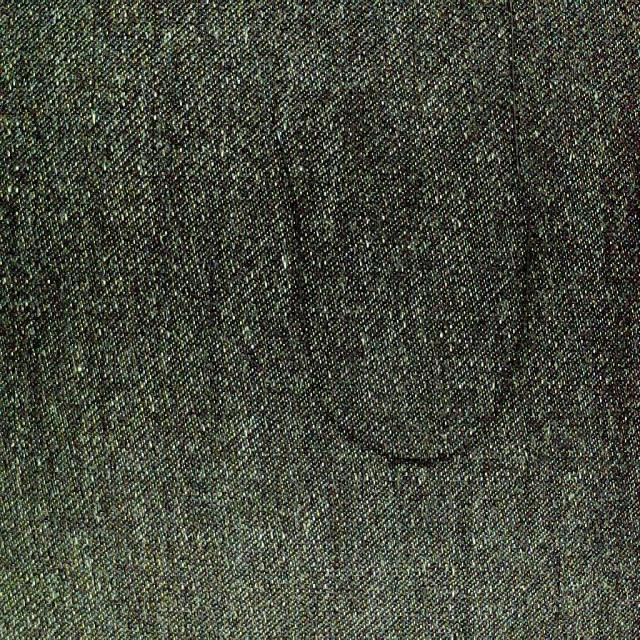defect: (275, 7, 545, 486)
